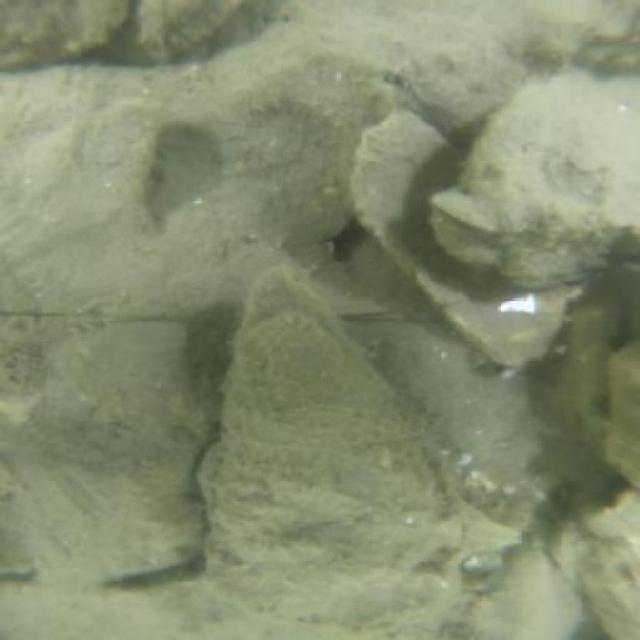Oyster-Closed: (210, 289, 449, 609), (132, 0, 248, 62)
Oyster-Indeterminate: (0, 70, 396, 319), (345, 107, 569, 371), (8, 324, 212, 577), (437, 71, 631, 286), (224, 6, 523, 125), (439, 546, 572, 634), (4, 0, 130, 68), (558, 525, 638, 631), (606, 343, 633, 480)
